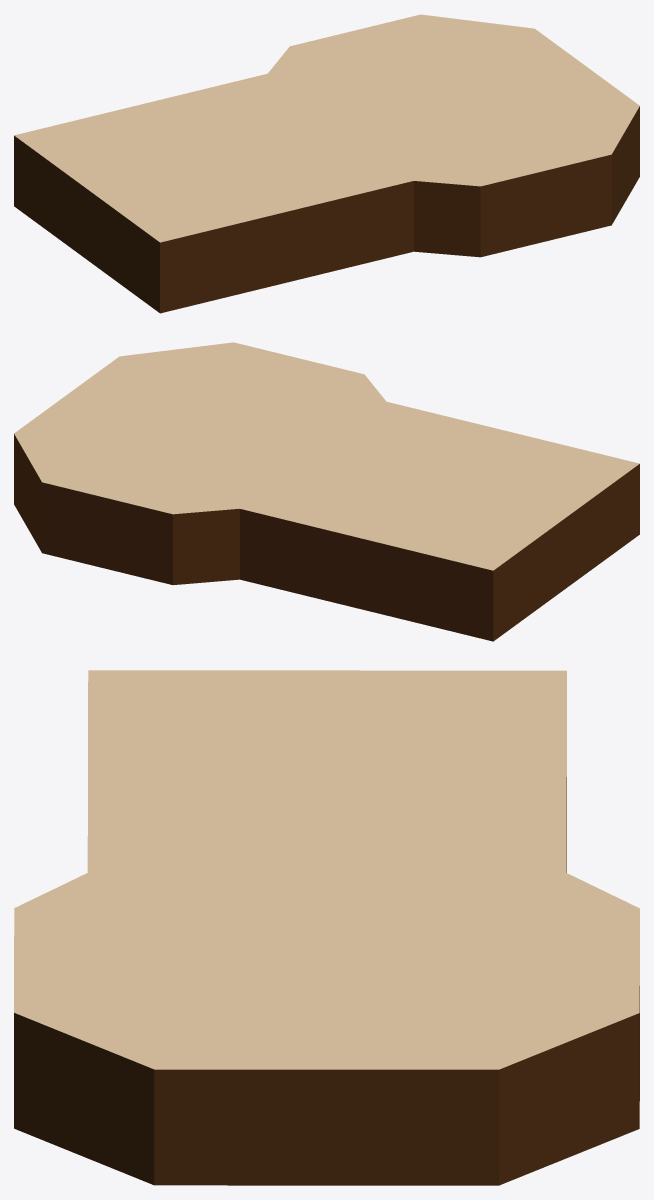
Rendered from BreadSlice.fbx.
3 views of the same model, one above another, from view 1: azimuth 30°, elevation 25°; view 2: azimuth 150°, elevation 25°; view 3: azimuth 270°, elevation 25° (orthographic). The views are drawn at different scales.
Parts seen in each view (by area): view 1: Cylinder.009; view 2: Cylinder.009; view 3: Cylinder.009.
Part boxes in pixels (<box>): Cylinder.009: <box>14,14,639,313</box>; Cylinder.009: <box>14,342,639,641</box>; Cylinder.009: <box>14,670,639,1185</box>.
Size of the model in its own units: 46.98 by 6.36 by 31.12.
